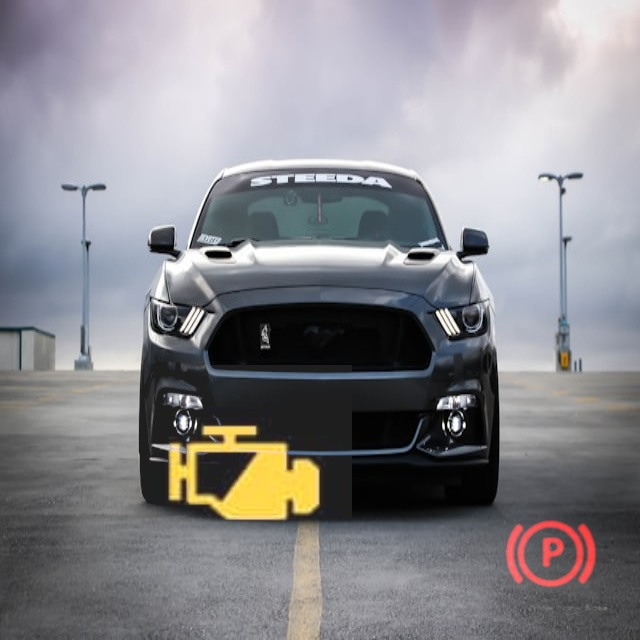symbol: (134, 365, 352, 583), (487, 492, 613, 618)
